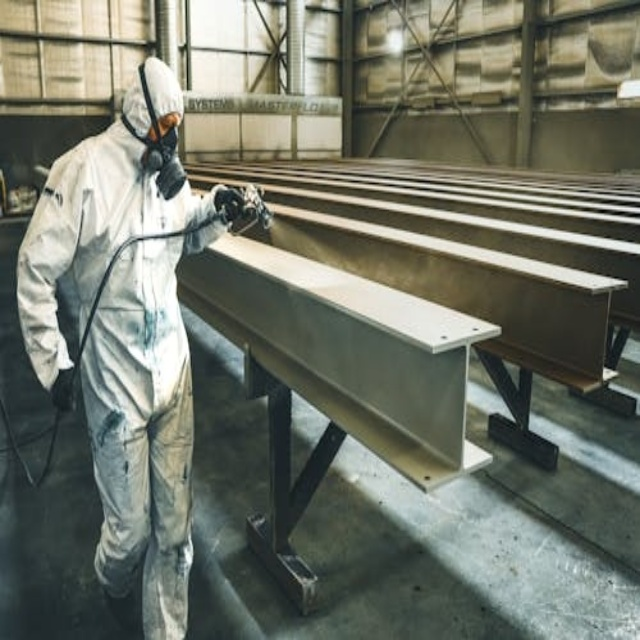Guantes: (40, 350, 86, 421), (210, 171, 247, 229)
Mascara: (142, 108, 186, 202)
Sin_gafas: (155, 108, 180, 140)
